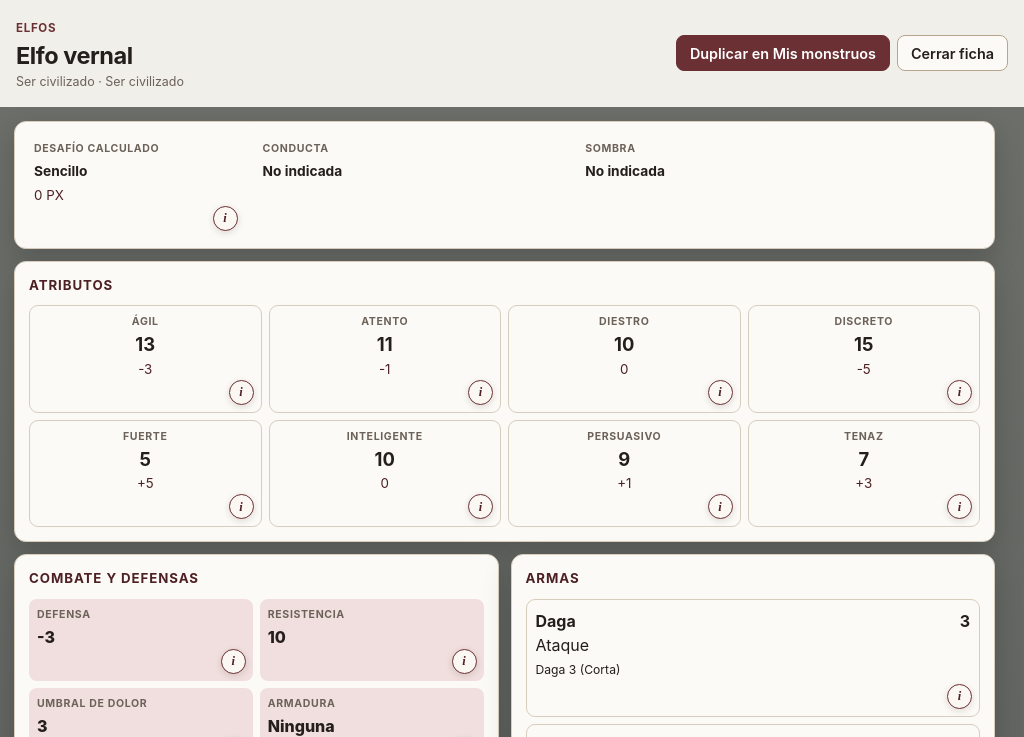
Test: MonsterReferenceSheet › desglosa el ataque sin repetir el resultado final
The width and height of the screenshot is (1024, 737).
Click the button named "Ver cálculo de ataque de Daga" at (960, 696), box [947,684,972,709]
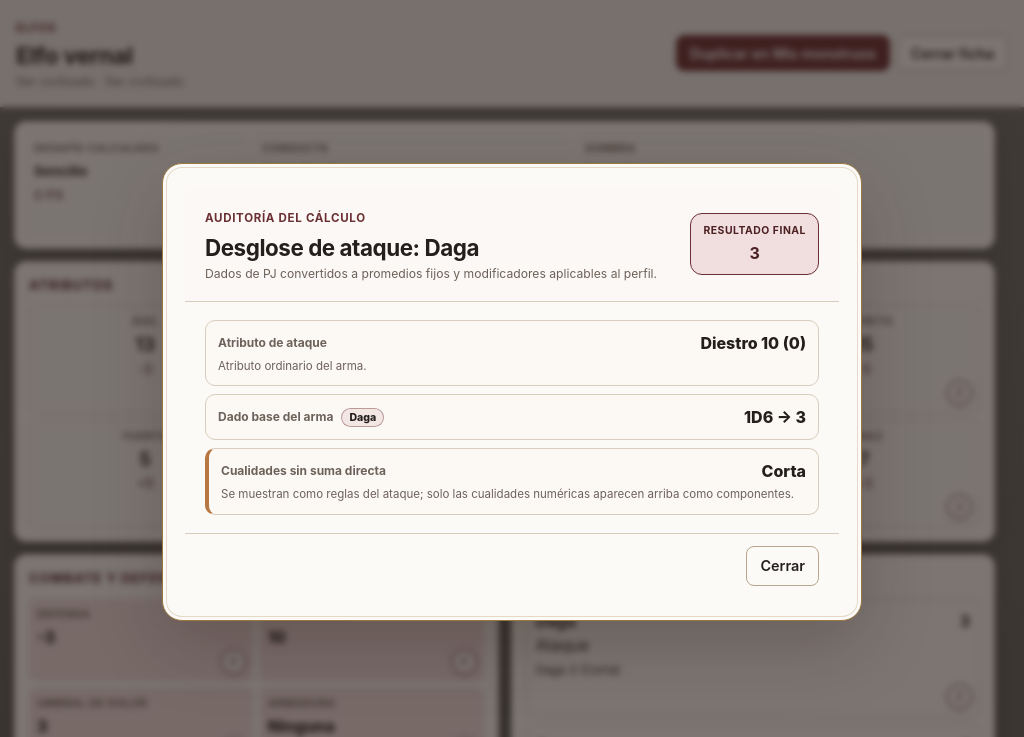
Expected: the text "Atributo de ataque" shows "Diestro 10 (0)", [700,333,806,353]
Expected: the text "Dado base del arma" shows "1D6 → 3", [744,407,806,427]
Click the button "Cerrar" at (783, 566), box [746,546,819,586]
(page scrolled)
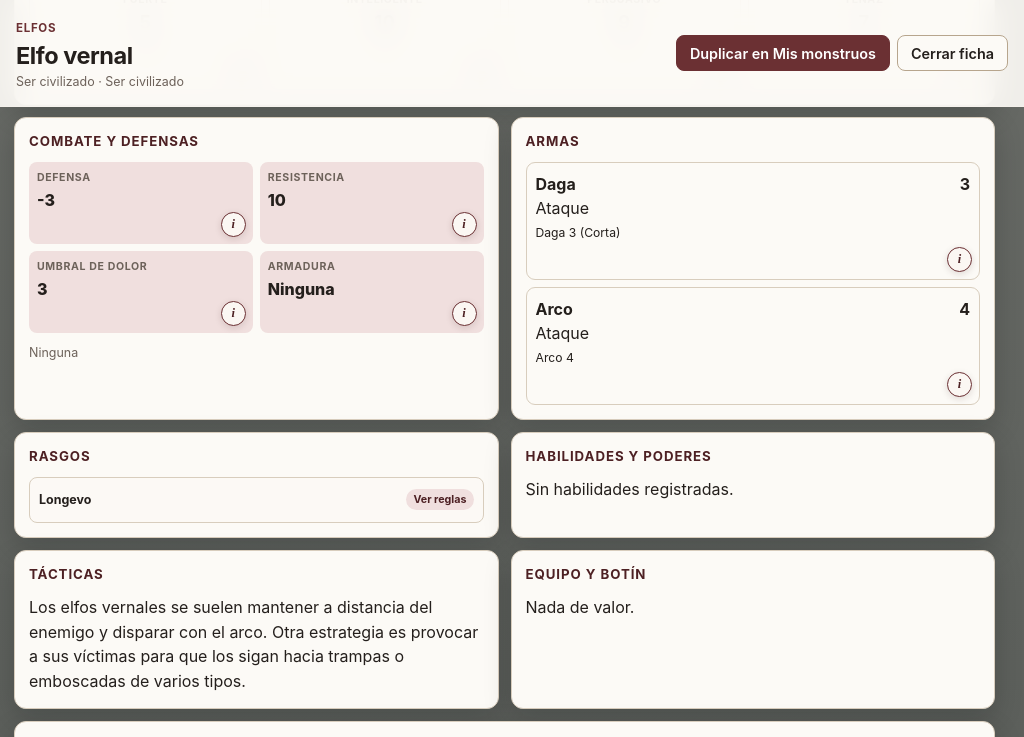
Click the button named "Ver cálculo de ataque de Arco" at (960, 384), box [947,372,972,397]
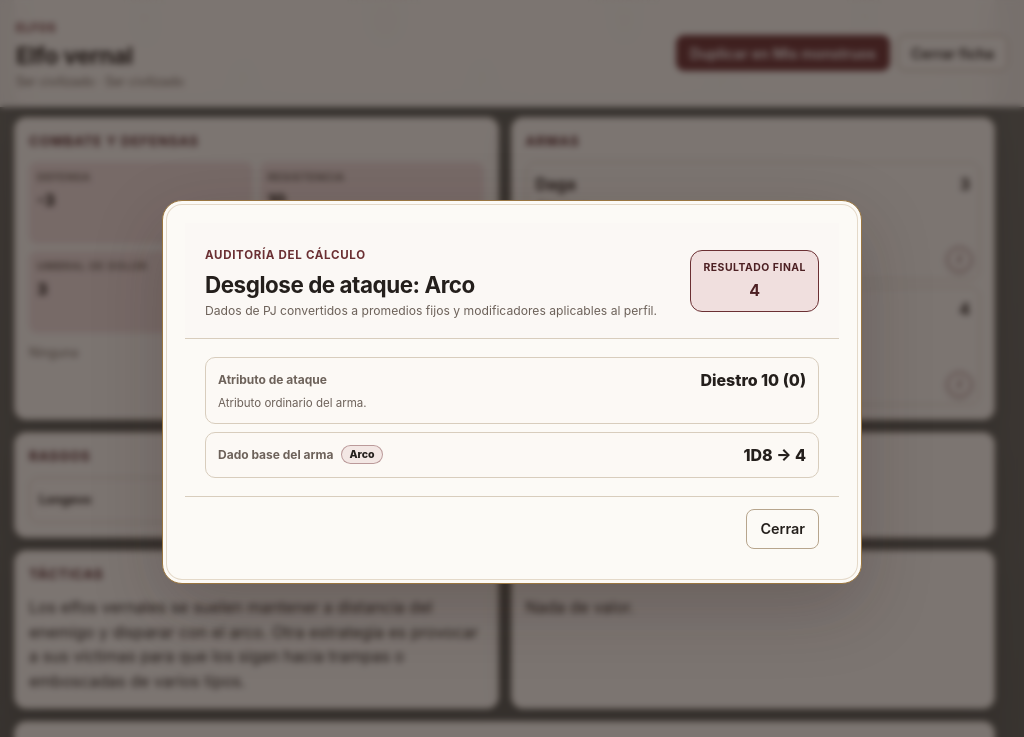
Expected: the text "Atributo de ataque" shows "Diestro 10 (0)", [700,370,806,390]
Click the button "Cerrar" at (783, 528), box [746,508,819,548]
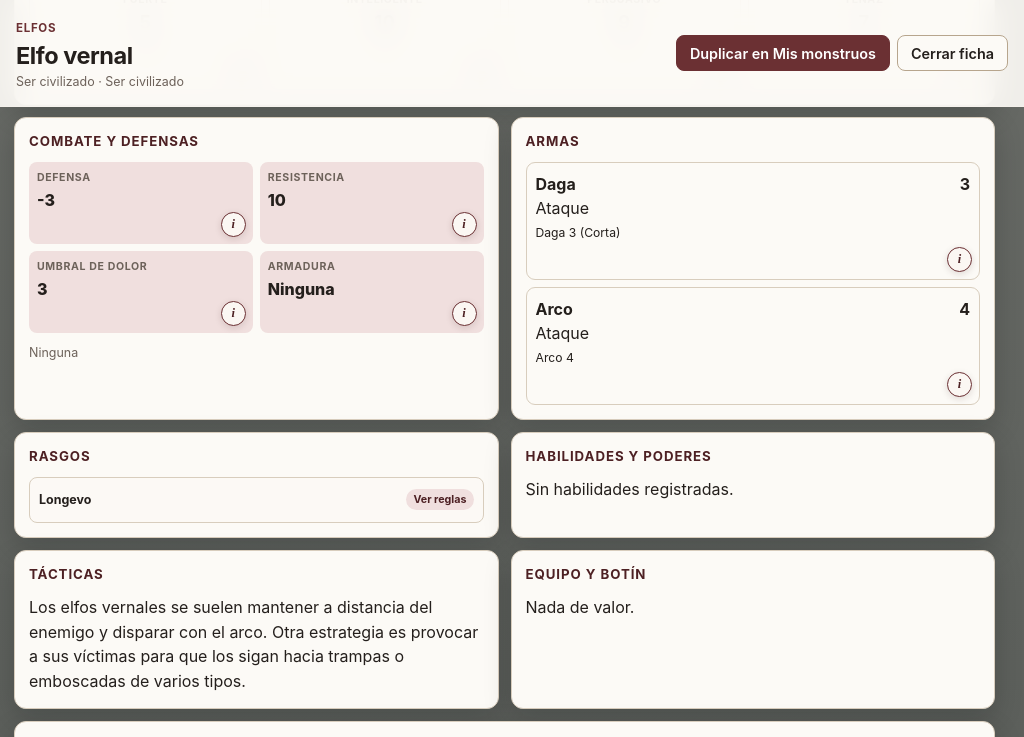
Click the button named "Ver cálculo de Defensa" at (233, 225), box [221,212,246,237]
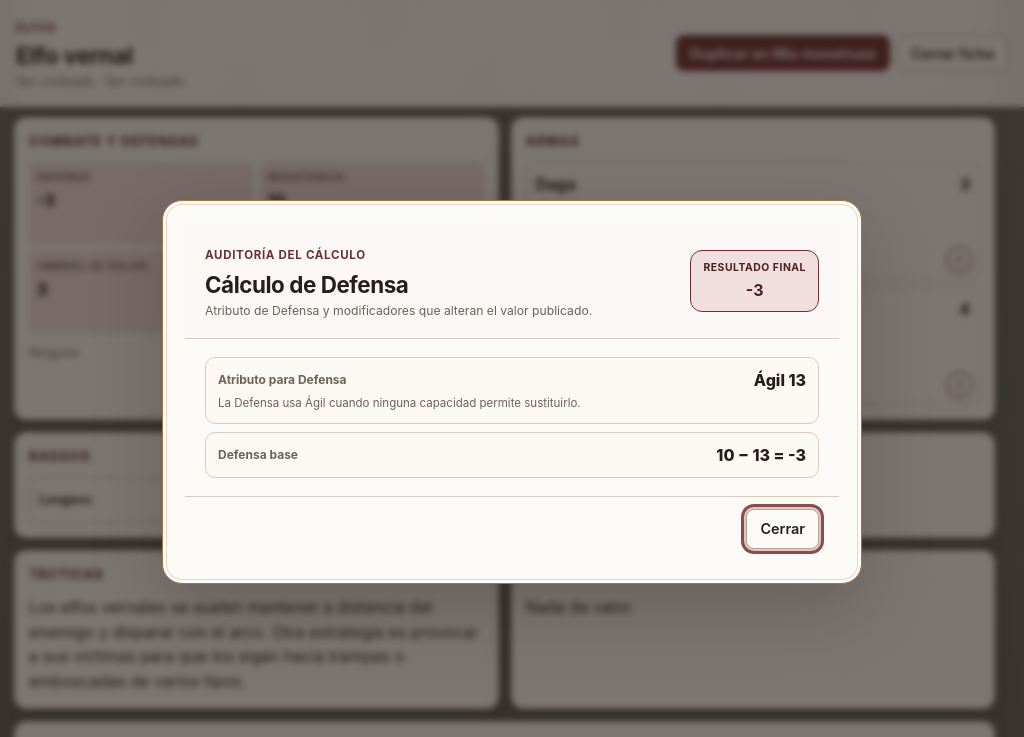
Expected: the text "Atributo para Defensa" shows "Ágil 13", [754,370,806,390]
Expected: the text "Defensa base" shows "10 − 13 = -3", [716,444,806,464]
